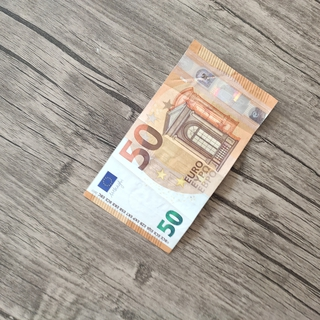50EUROFront: (82, 37, 279, 256)
